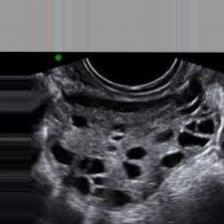pcos: (47, 85, 224, 207)
